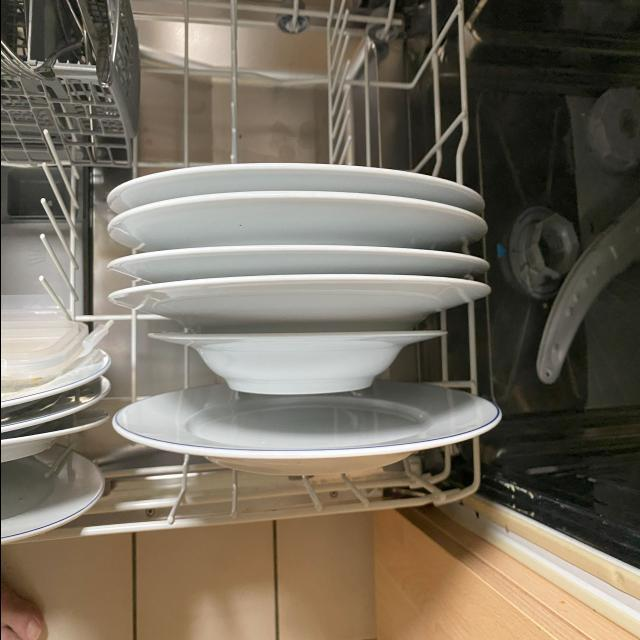empty_slot: (156, 3, 439, 165)
